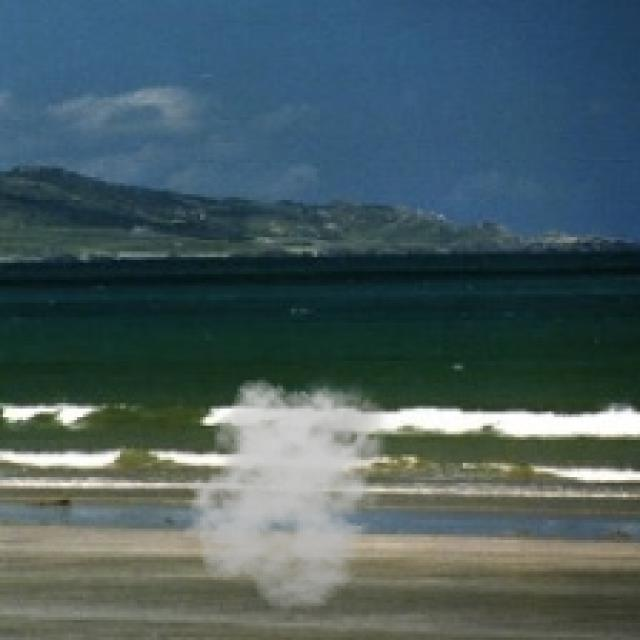Smoke: (182, 372, 398, 612)
